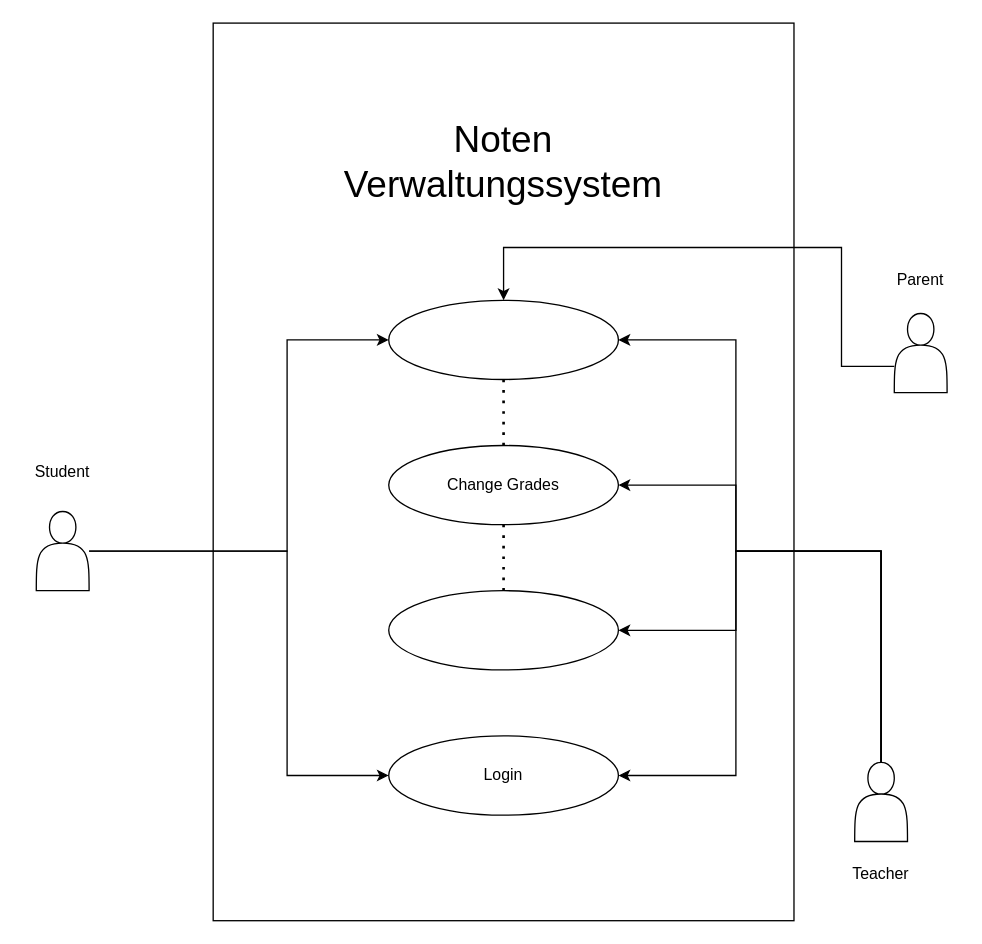
This 982x944 diagram has some shape labels left out. The box of each missing label's shape, as (x1, y1, x2, y2) in pixels:
Print Grades: (387, 589, 618, 670)
View Grades: (387, 299, 618, 380)
